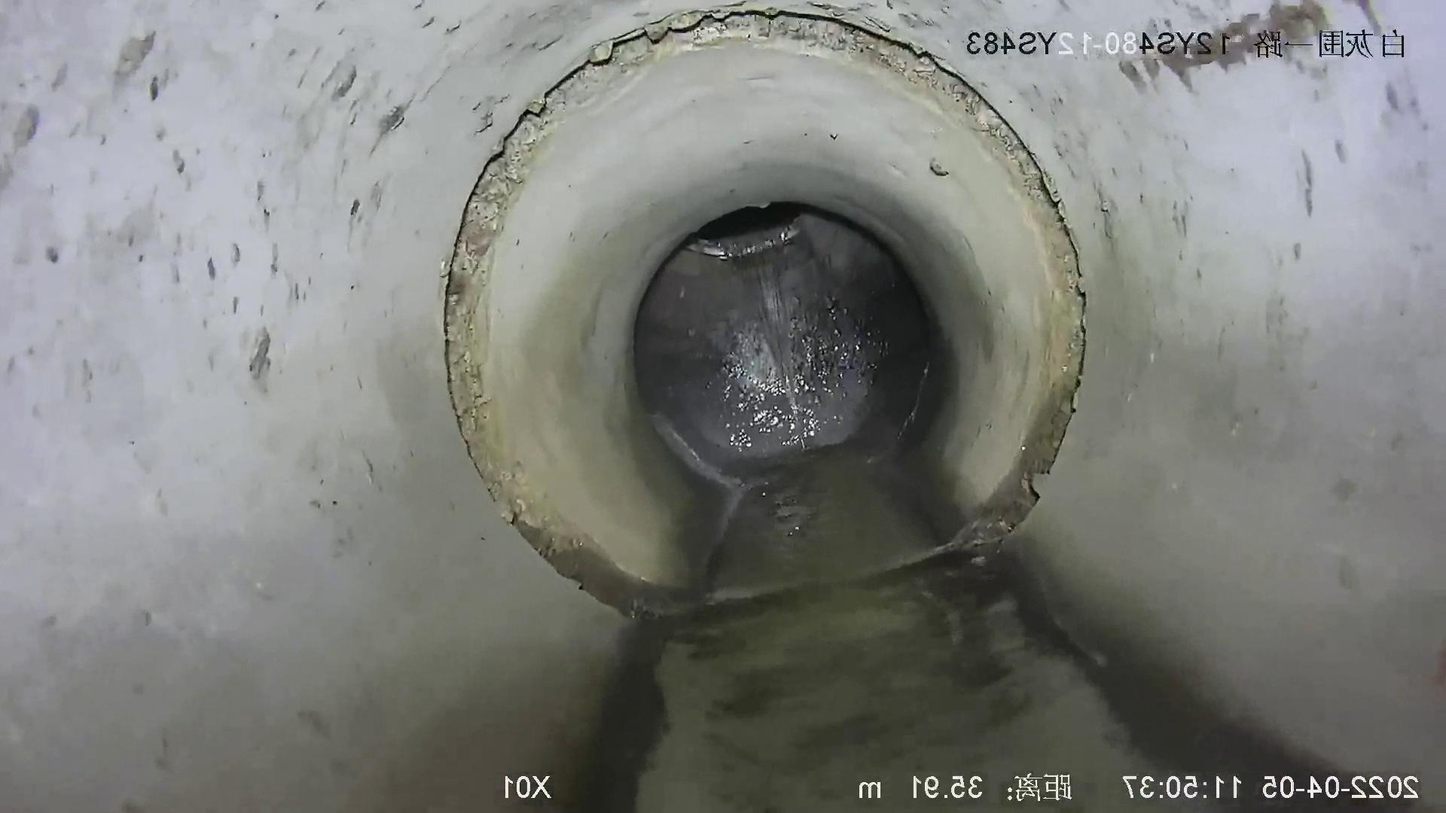CKTJ: (445, 9, 1084, 612)
